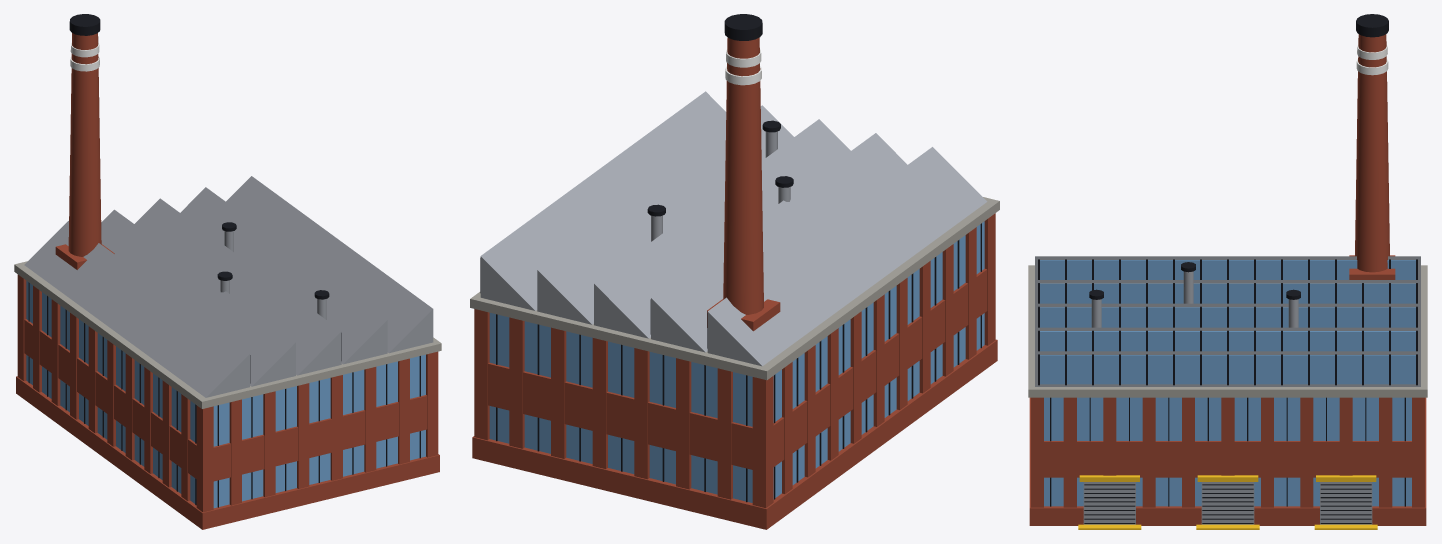
File: Skyline_Warehouse.fbx
3 renders of one model, left to right at view 1: azimuth 30°, elevation 25°; view 2: azimuth 150°, elevation 25°; view 3: azimuth 270°, elevation 25°, orthographic. The views are drawn at different scales.
Visible parts, largest first — view 1: Metal.006, Brick.002, Window.007, Concrete.004, Dark.007, White.006; view 2: Metal.006, Brick.002, Window.007, Concrete.004, Dark.007, White.006; view 3: Window.007, Brick.002, Metal.006, Dark.007, Concrete.004, Yellow.002, White.006.
Part boxes in pixels (bbox=[...]): Metal.006: bbox=[24, 176, 433, 397]; Brick.002: bbox=[16, 33, 439, 529]; Window.007: bbox=[26, 281, 425, 507]; Concrete.004: bbox=[14, 261, 441, 408]; Dark.007: bbox=[28, 14, 420, 507]; White.006: bbox=[70, 42, 99, 71]; Metal.006: bbox=[480, 91, 987, 366]; Brick.002: bbox=[472, 37, 997, 529]; Window.007: bbox=[489, 221, 984, 502]; Concrete.004: bbox=[470, 197, 999, 380]; Dark.007: bbox=[480, 14, 981, 502]; White.006: bbox=[725, 49, 761, 85]; Window.007: bbox=[1040, 260, 1415, 506]; Brick.002: bbox=[1029, 34, 1426, 525]; Metal.006: bbox=[1035, 256, 1420, 524]; Dark.007: bbox=[1038, 14, 1417, 523]; Concrete.004: bbox=[1028, 265, 1427, 397]; Yellow.002: bbox=[1078, 475, 1377, 529]; White.006: bbox=[1356, 45, 1388, 75].
Bounding box in the file's own units: 46 × 68 × 60.8.
